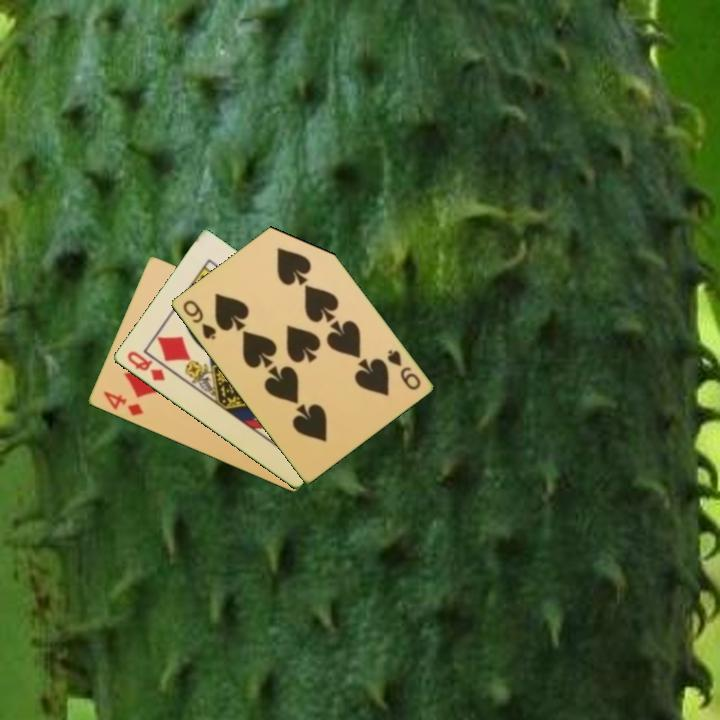4d: (100, 388, 146, 419)
9s: (179, 296, 219, 343), (383, 346, 423, 393)
Qd: (123, 347, 168, 384)
